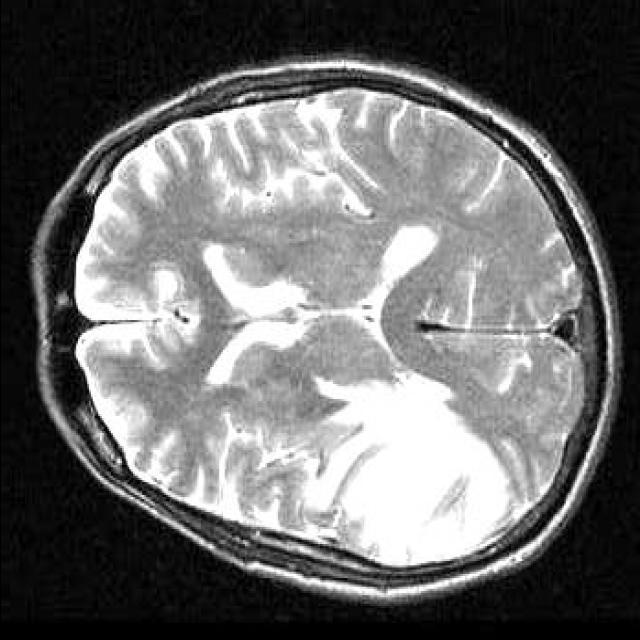tumor: (328, 373, 559, 565)
